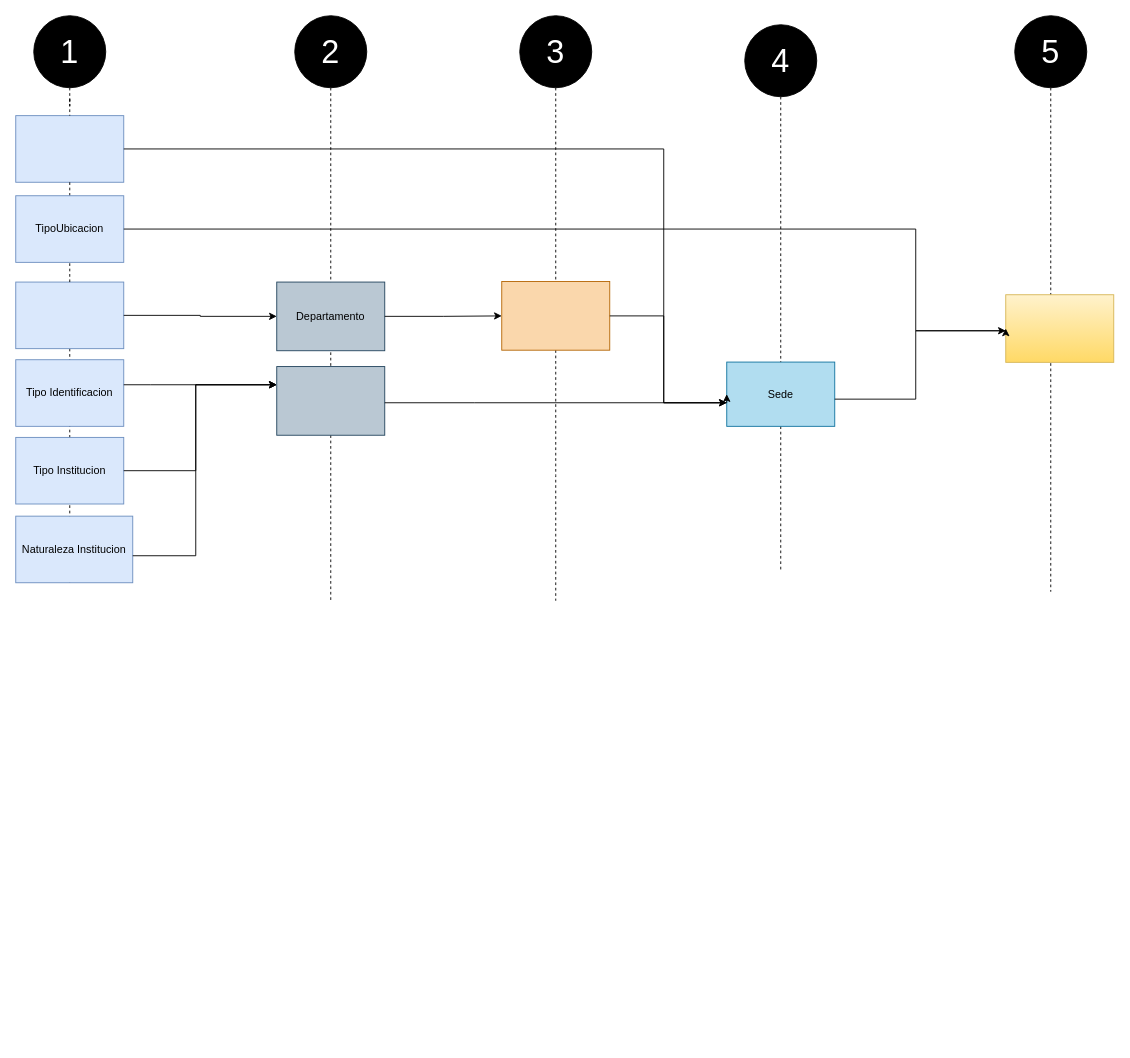
Some shapes in this 1130 by 1058 pixel diagram are drawn without their labels. Here are the shapes that lost their labels. From the top down, the centre of each, then its label:
pixel 69 148: Tipo Sede
pixel 69 315: Pais
pixel 555 315: Ciudad
pixel 1059 328: Ubicacion
pixel 330 400: Institucion
